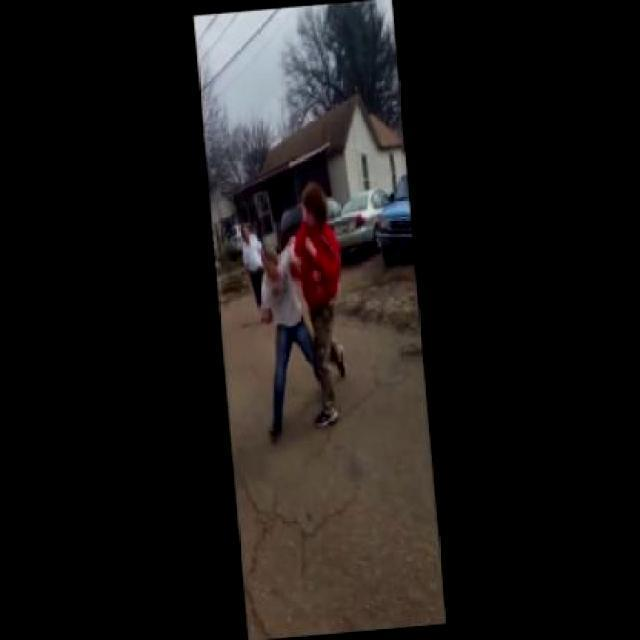fight: (248, 180, 358, 438)
